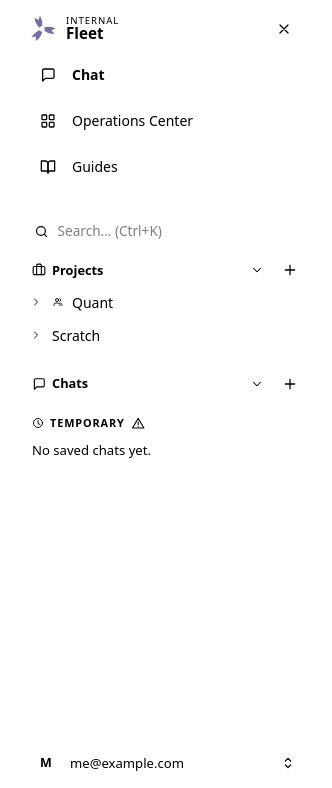
Test case: ConversationSidebar — a project's empty state is viewer-aware › says just “No chats yet” when a team-shared project really is empty
Click the button named "Project Quant (0 chats)".
click(36, 302)  # box [24, 290, 48, 314]
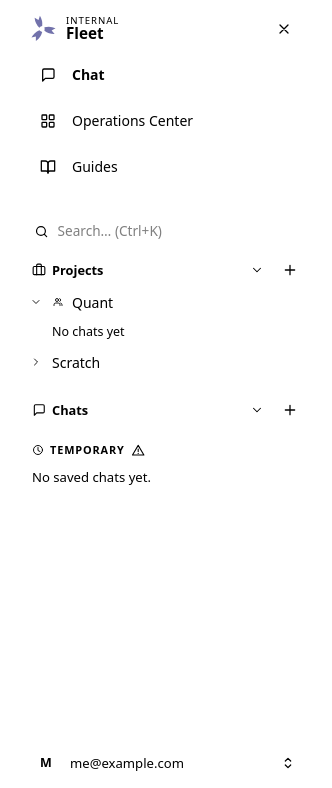
Expected: the text "No chats yet" is shown, [52, 323, 125, 340]
